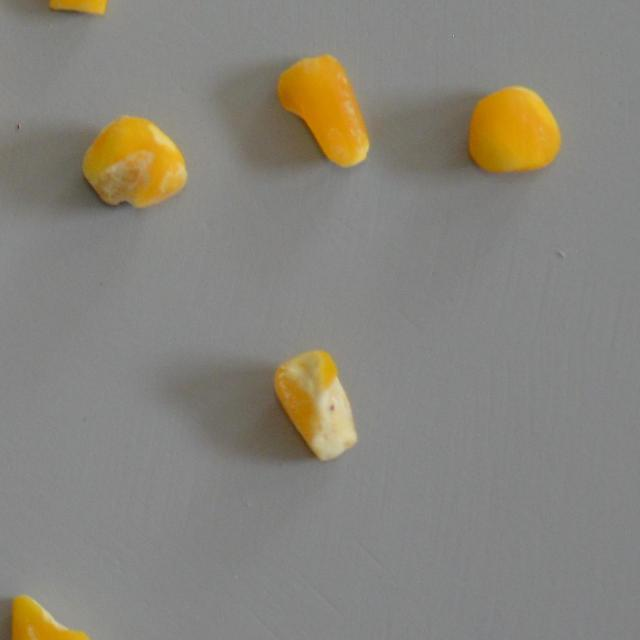estandar: (470, 82, 565, 176), (40, 0, 120, 22)
pelicula: (275, 50, 369, 167), (78, 116, 186, 212), (8, 592, 108, 640)
punto_negro: (274, 348, 360, 464)
